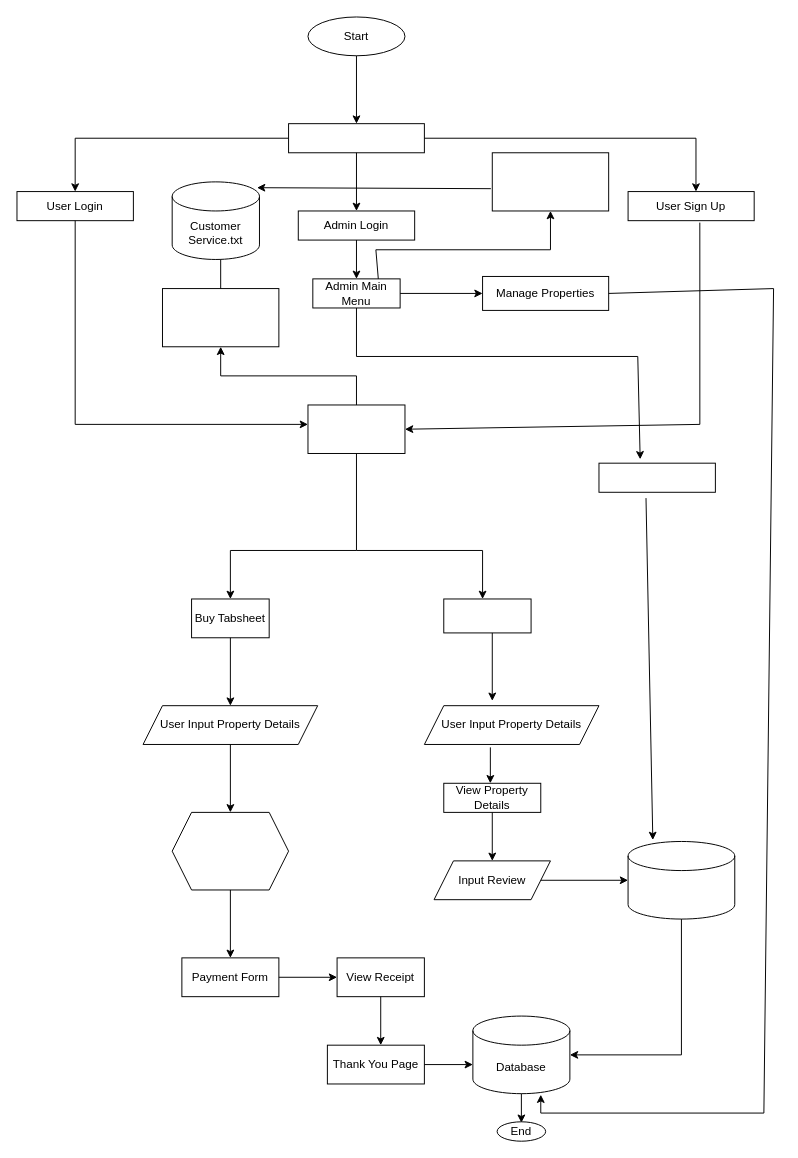
This 798x1158 diagram has some shape labels left out. Each missing label, with the centre of its shape:
Customer Service: the point at 220,317
Main Menu: the point at 356,428
Main Page: the point at 356,138
Parallel Arrays: the point at 230,850
Review.txt: the point at 681,880
Sell Tabsheet: the point at 487,615
View Customer Service: the point at 550,181
View Reviews: the point at 656,477
